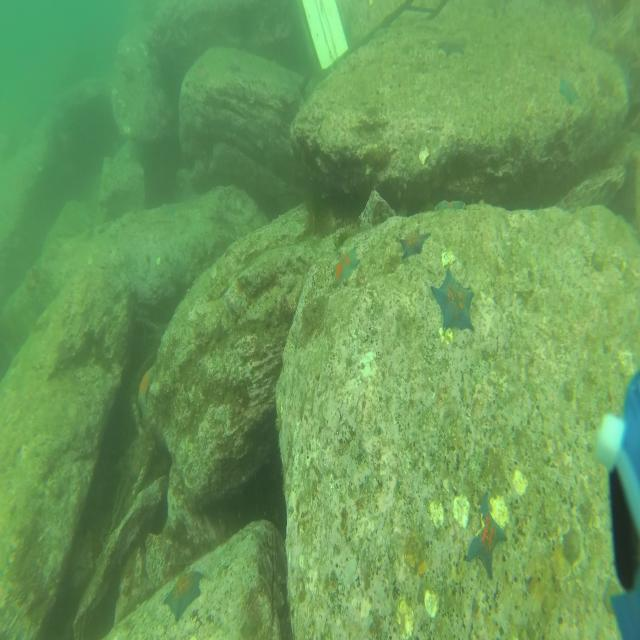echinus: (303, 192, 336, 241), (334, 217, 362, 246)
starfish: (466, 487, 509, 582), (430, 266, 476, 333), (162, 569, 204, 623), (329, 244, 361, 288), (399, 224, 432, 262), (138, 361, 158, 412), (558, 75, 581, 107), (433, 196, 467, 213), (193, 63, 210, 85), (226, 59, 241, 73)
